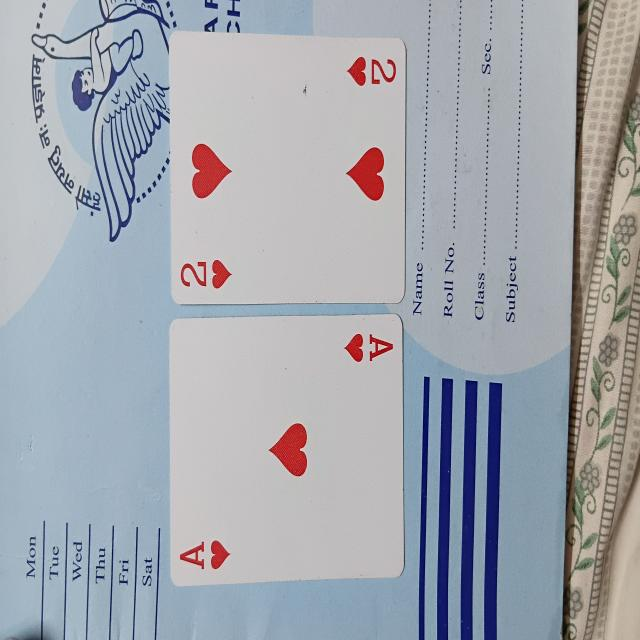2H: (171, 30, 407, 302)
AH: (170, 318, 406, 581)
